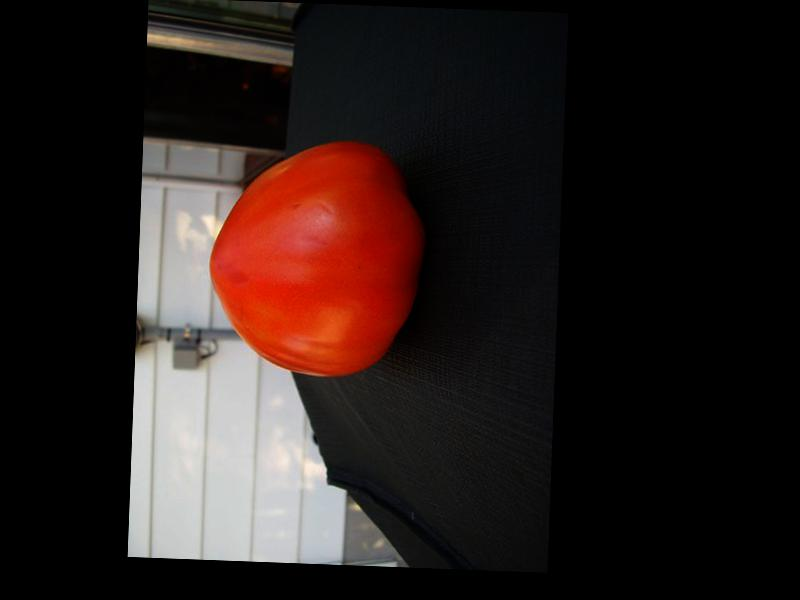Tomato: (204, 135, 427, 379)
